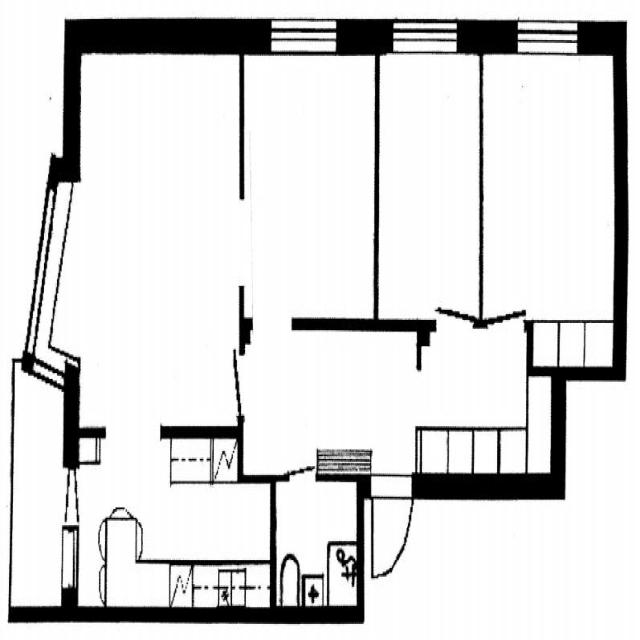door: (367, 459, 416, 601)
window: (17, 165, 54, 358), (384, 8, 476, 76), (260, 1, 344, 67), (511, 9, 587, 72), (19, 337, 78, 401), (62, 517, 81, 607)
zone: (63, 35, 244, 436), (240, 44, 376, 334), (478, 30, 612, 324), (70, 428, 267, 605), (377, 37, 482, 324), (411, 318, 557, 487), (274, 472, 357, 614)
